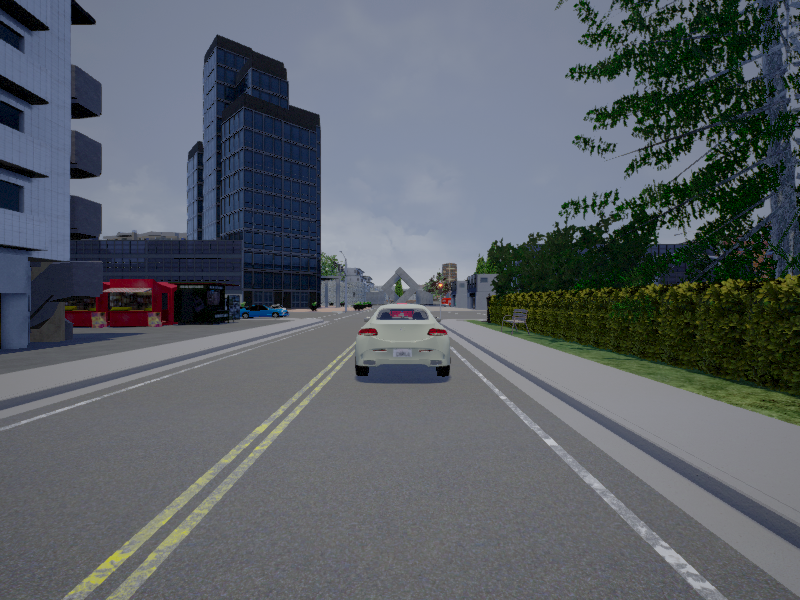Benign: (355, 305, 453, 378), (239, 302, 288, 317)
